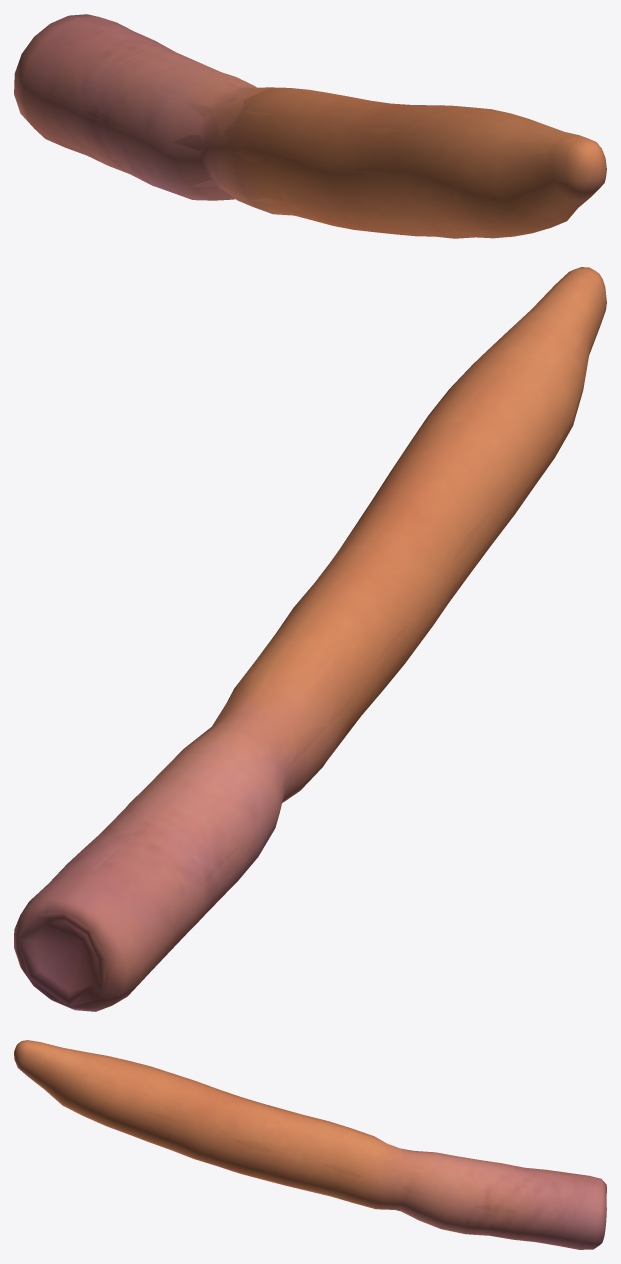
Rendered from Vagina.fbx.
3 renders of one model, top to bottom at view 1: azimuth 30°, elevation 25°; view 2: azimuth 150°, elevation 25°; view 3: azimuth 270°, elevation 25°, orthographic. The views are drawn at different scales.
Parts seen in each view (by area): view 1: Vagina, Vagina low; view 2: Vagina, Vagina low; view 3: Vagina, Vagina low.
Boxes of the visible parts, <box> form: Vagina: <box>14,14,606,238</box>; Vagina low: <box>44,54,563,220</box>; Vagina: <box>14,267,606,1011</box>; Vagina low: <box>18,310,570,1006</box>; Vagina: <box>14,1040,606,1249</box>; Vagina low: <box>27,1051,606,1241</box>.
Size of the model in its own units: 2.03 by 5.96 by 15.63.
1 material, 1 textured.
